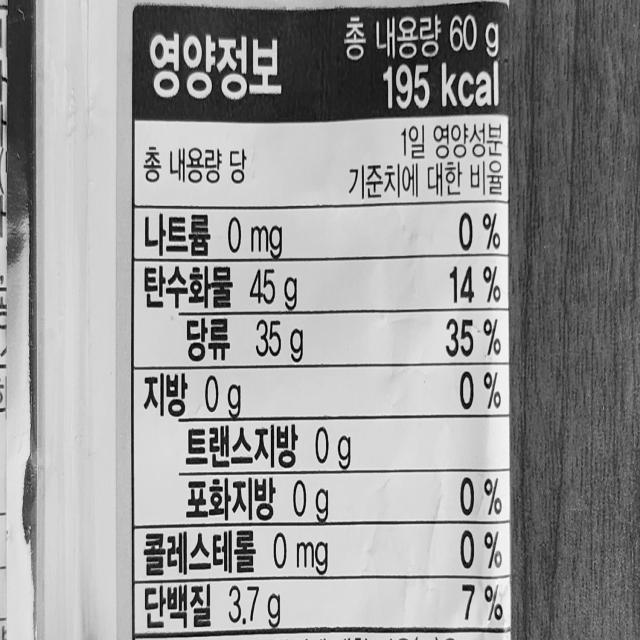Nutrition Label: (130, 0, 514, 640)
